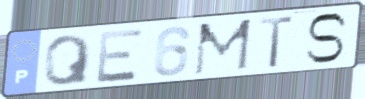6: (151, 25, 192, 78)
E: (94, 26, 146, 85)
M: (191, 17, 255, 78)
Q: (42, 33, 95, 88)
S: (302, 11, 351, 66)
T: (256, 14, 297, 71)
